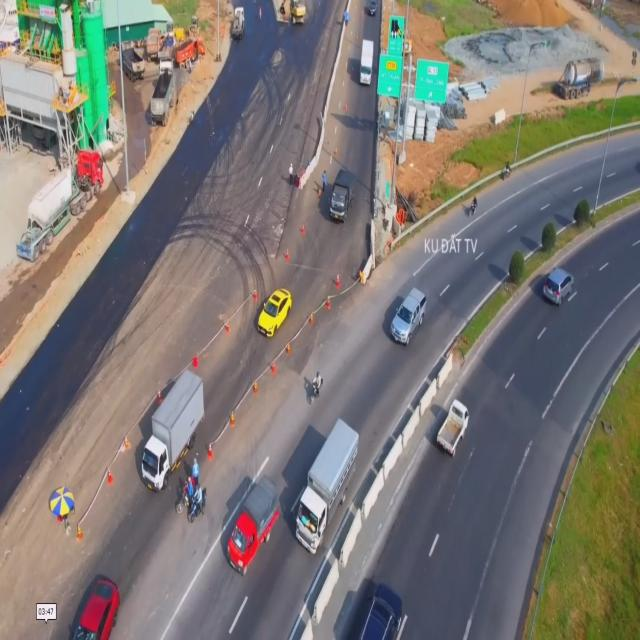car: (75, 570, 120, 640), (358, 581, 402, 640), (389, 288, 427, 347), (258, 286, 293, 336), (543, 266, 573, 306)
motorbike: (188, 486, 205, 525), (310, 370, 326, 404)
truck: (294, 417, 359, 555), (142, 366, 204, 489), (226, 472, 282, 572), (438, 397, 469, 458), (329, 165, 354, 224), (358, 36, 374, 85)
